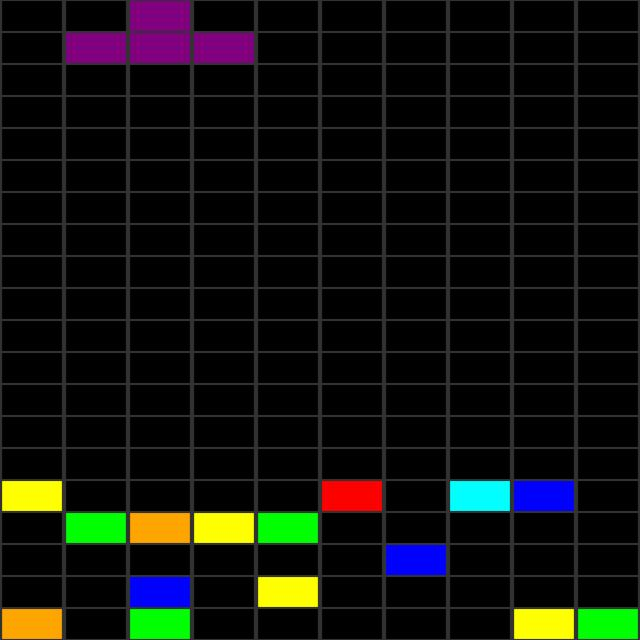Tetrimino_J: (66, 1, 254, 64)
